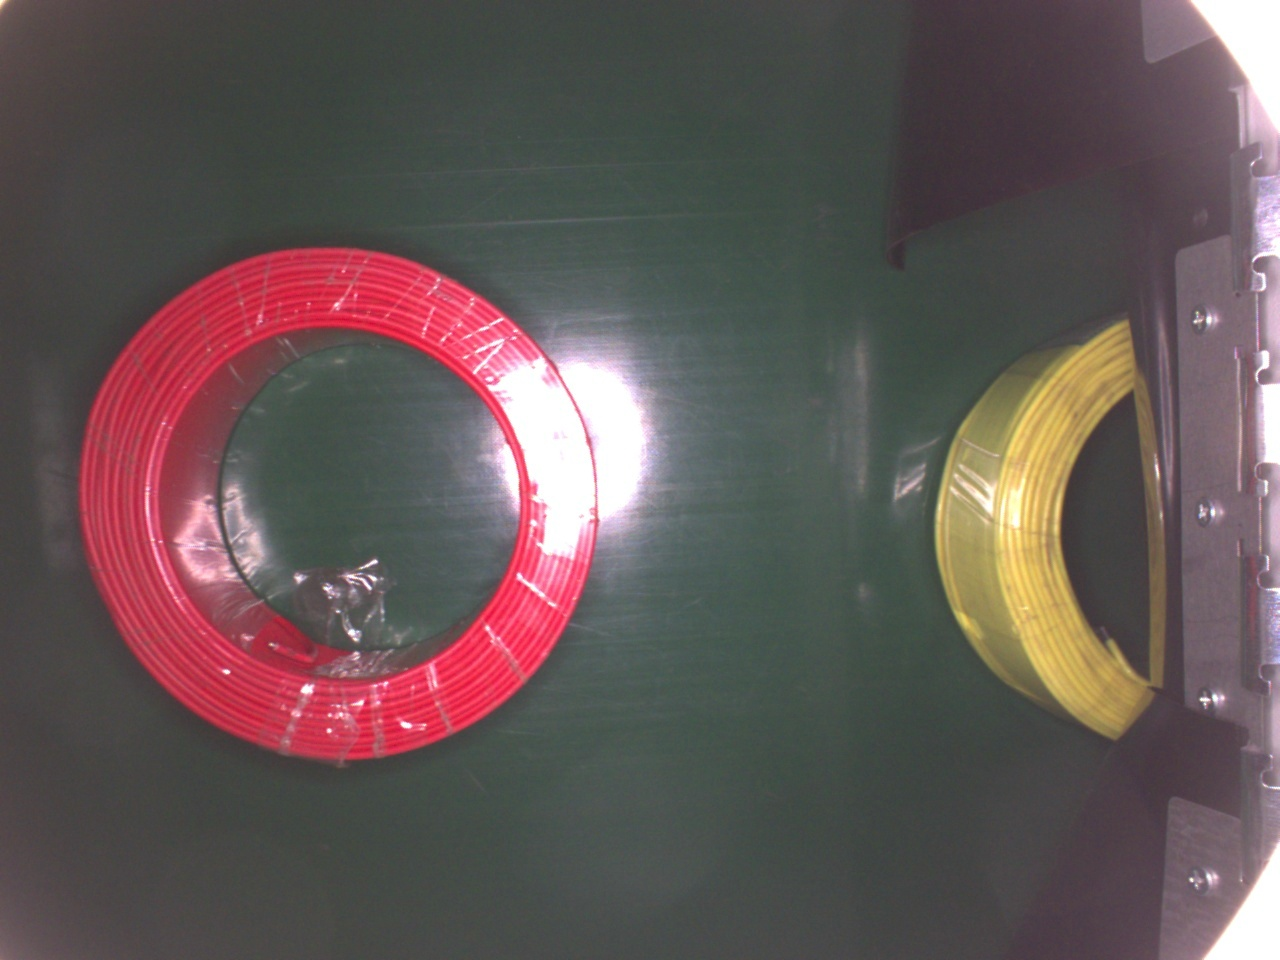red: (79, 242, 601, 758)
yellow: (929, 311, 1155, 739)
